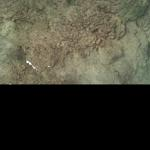dead: (1, 1, 146, 82)
